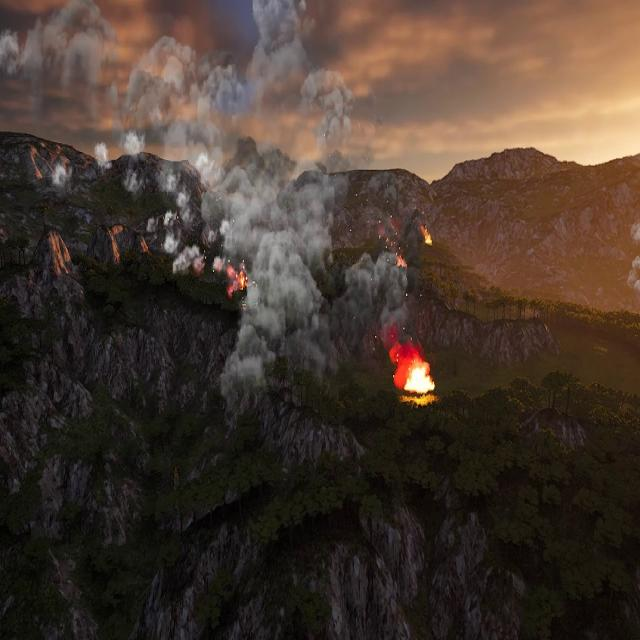fire: (404, 356, 436, 396), (227, 262, 248, 296), (421, 226, 433, 247), (396, 254, 408, 267)
smoke: (0, 0, 414, 394)
